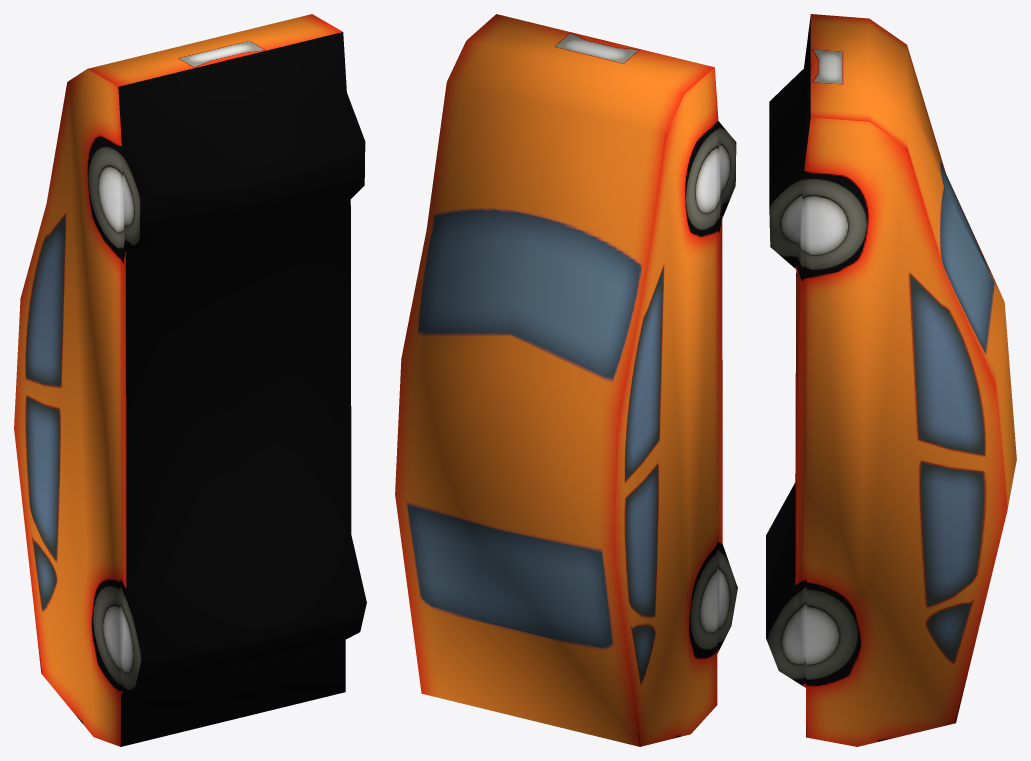
Rendered from HybridCarLow.fbx.
The picture shows the model from 3 angles, left to right: view 1: azimuth 30°, elevation 25°; view 2: azimuth 150°, elevation 25°; view 3: azimuth 270°, elevation 25°; orthographic projection. The views are drawn at different scales.
Visible parts, largest first — view 1: PriusSuperLow; view 2: PriusSuperLow; view 3: PriusSuperLow.
Part boxes in pixels (x1=…): PriusSuperLow: x1=14, y1=14, x2=366, y2=746; PriusSuperLow: x1=395, y1=14, x2=737, y2=746; PriusSuperLow: x1=766, y1=14, x2=1016, y2=746.
Bounding box in the file's own units: 155 × 439 × 158.
